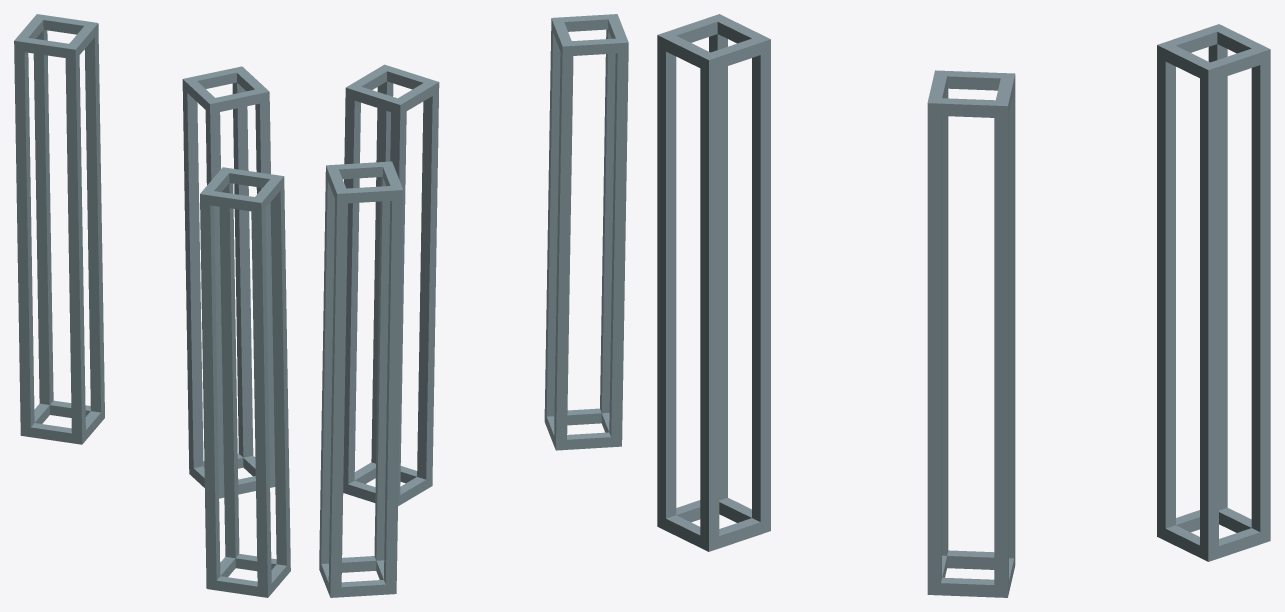
The model's file is Work Table_2.fbx.
3 views of the same model, side by side, from view 1: azimuth 30°, elevation 25°; view 2: azimuth 150°, elevation 25°; view 3: azimuth 270°, elevation 25° (orthographic). The views are drawn at different scales.
Visible parts, largest first — view 1: Work Table_2; view 2: Work Table_2; view 3: Work Table_2.
Boxes of the visible parts, x1=… form: Work Table_2: x1=14, y1=14, x2=290, y2=597; Work Table_2: x1=319, y1=14, x2=628, y2=597; Work Table_2: x1=657, y1=14, x2=1270, y2=597.
Bounding box in the file's own units: 17.54 × 40.29 × 45.57.
Materials: 1 (1 with a texture image).
